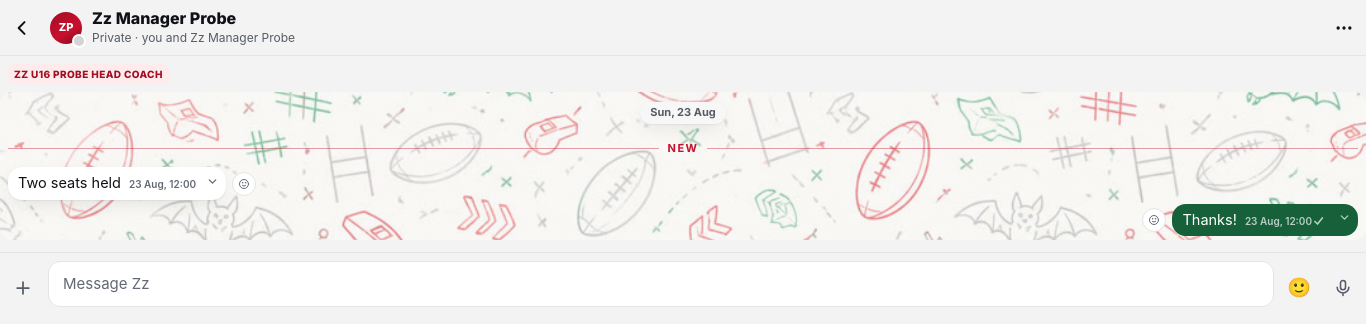
DirectMessages — a thread › block hides the composer and says so; unblock brings it back
The image size is (1366, 324).
Expected: the form with test id "dm-composer" is shown, [4,261,1362,307]
Click the button named "Chat options" at (1344,28), box [1326,10,1362,46]
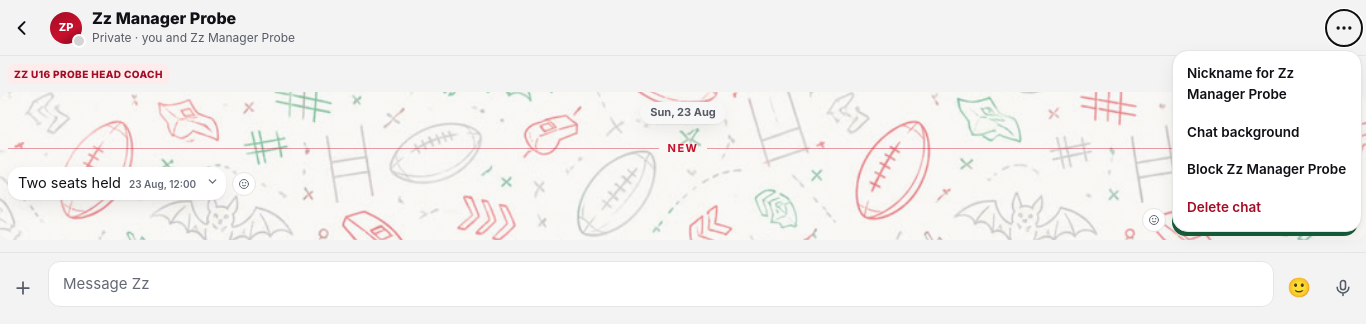
Click the menu item "Block Zz Manager Probe" at (1267,170), box [1173,151,1361,189]
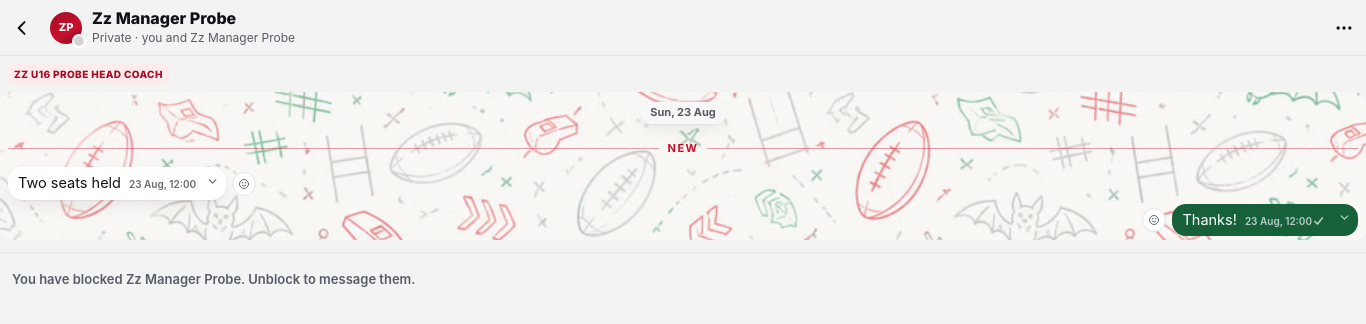
Expected: the text "You have blocked Zz Manager Probe. Unblock to message them." is shown, [12,271,416,287]
Expected: the form with test id "dm-composer" is gone
